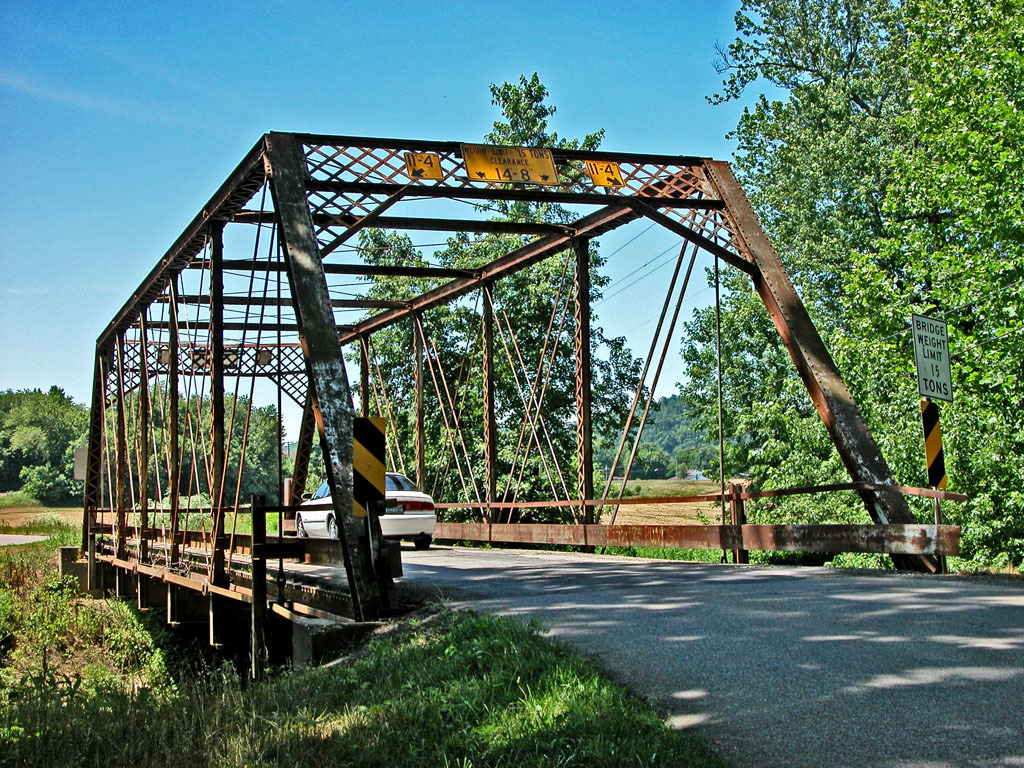cars: (295, 471, 435, 550)
